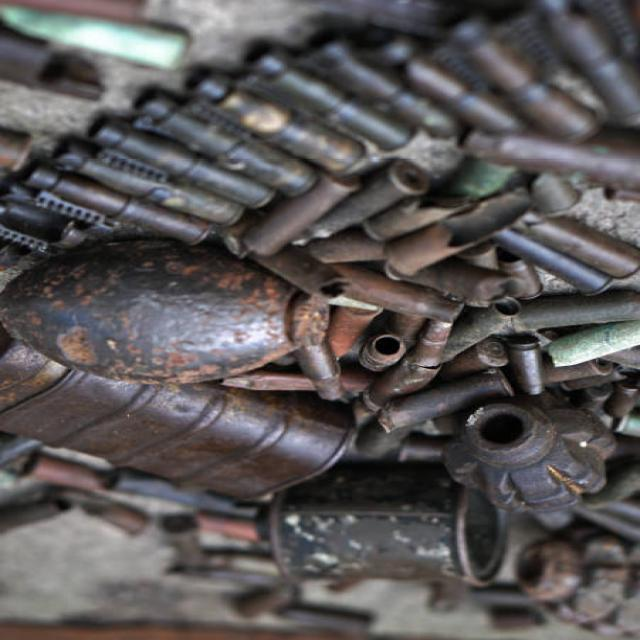grenade: (13, 247, 340, 384), (433, 395, 620, 515)
